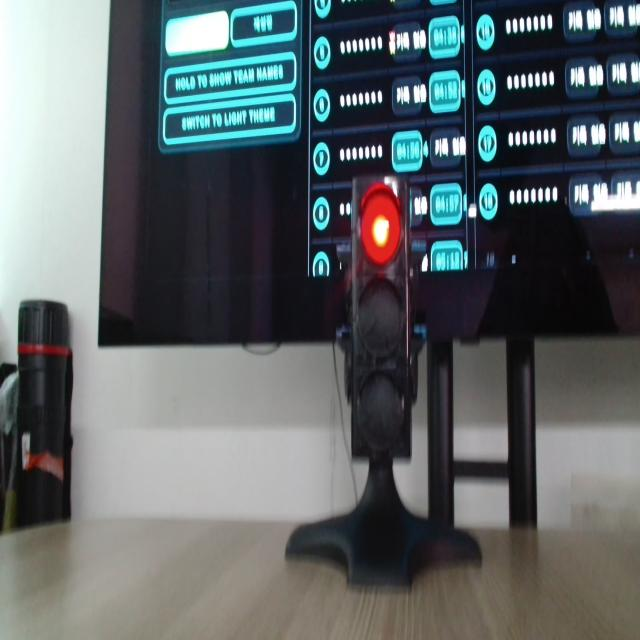red_light: (361, 183, 401, 266)
